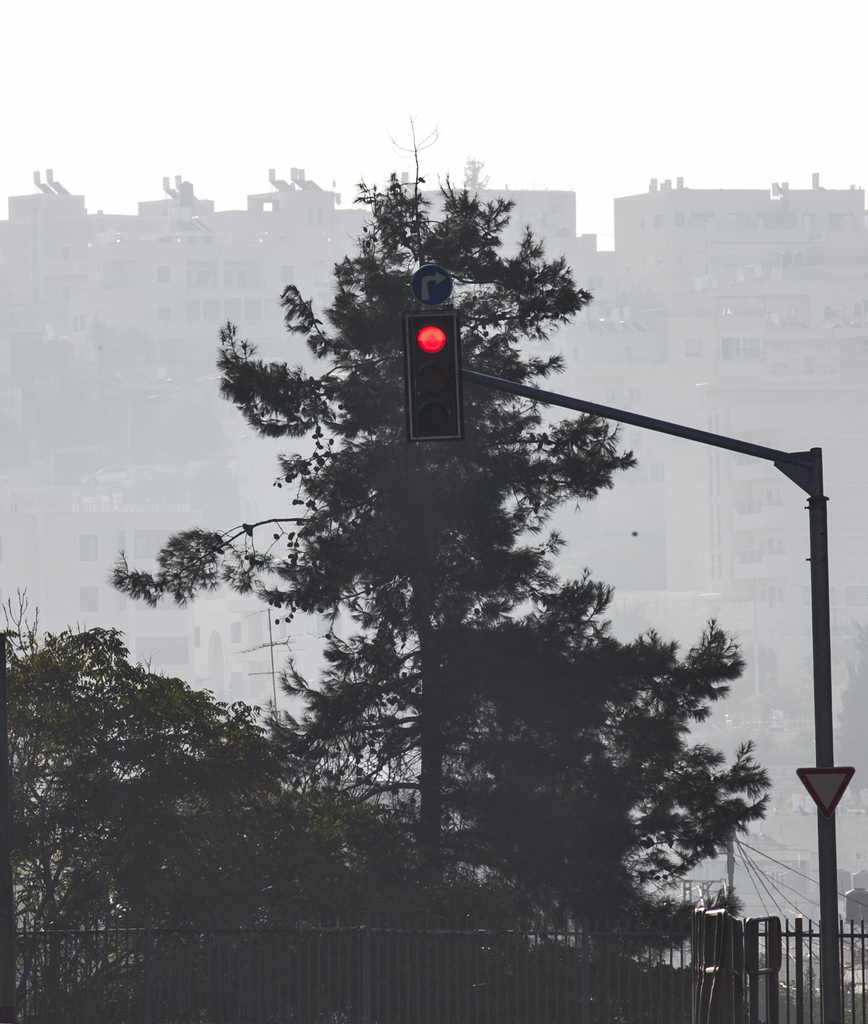red_light: (415, 322, 448, 356)
right_turn: (408, 265, 456, 305)
